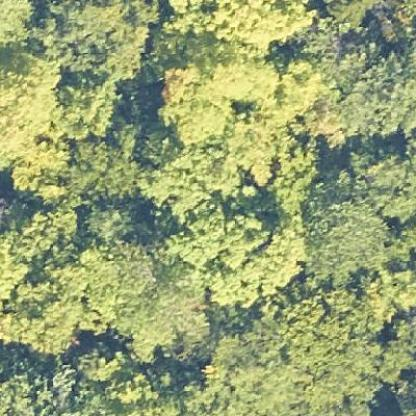tree-top: (34, 0, 160, 82), (163, 0, 319, 61), (0, 41, 66, 172), (297, 189, 390, 281), (169, 197, 274, 270), (57, 77, 123, 139), (76, 198, 142, 246), (76, 339, 125, 388)
